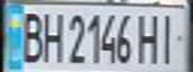1: (84, 9, 103, 64)
2: (63, 9, 87, 64)
4: (100, 9, 121, 64)
6: (115, 10, 139, 64)
B: (15, 8, 48, 64)
H: (36, 8, 66, 64), (136, 10, 163, 65)
I: (154, 9, 187, 65)
